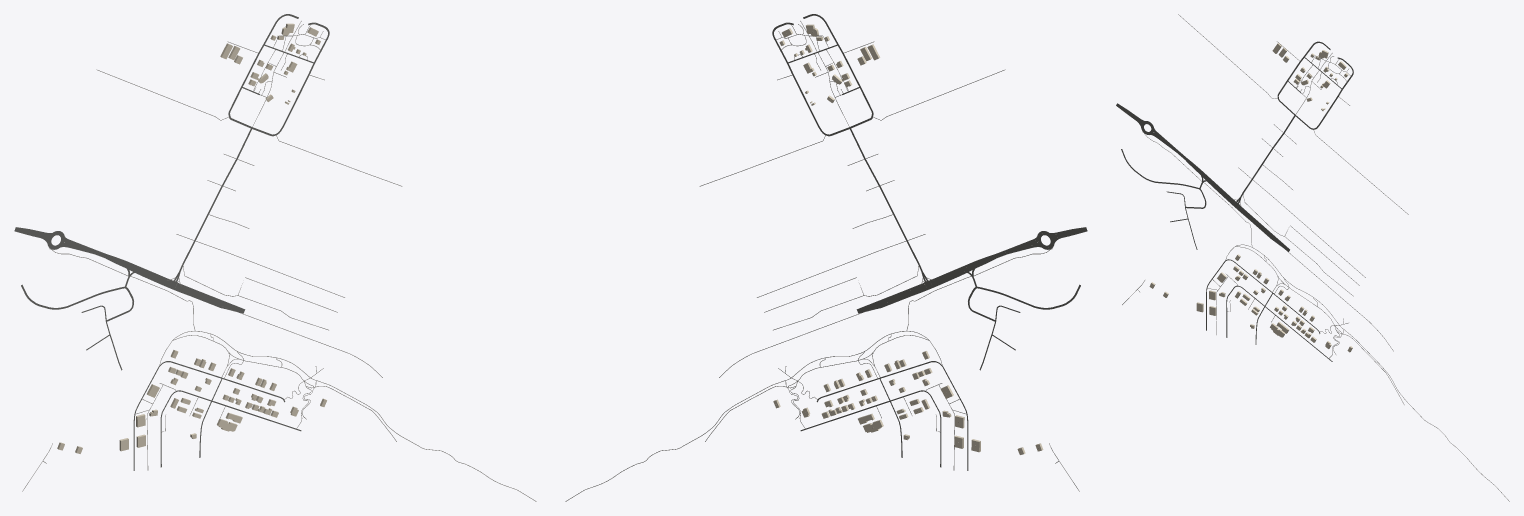
File: historic-palestine-04_20_3457_3144.glb
3 views of the same model, side by side, from view 1: azimuth 30°, elevation 25°; view 2: azimuth 150°, elevation 25°; view 3: azimuth 330°, elevation 25° (orthographic). The views are drawn at different scales.
Size of the model in its own units: 1570 by 1576 by 8.7.
